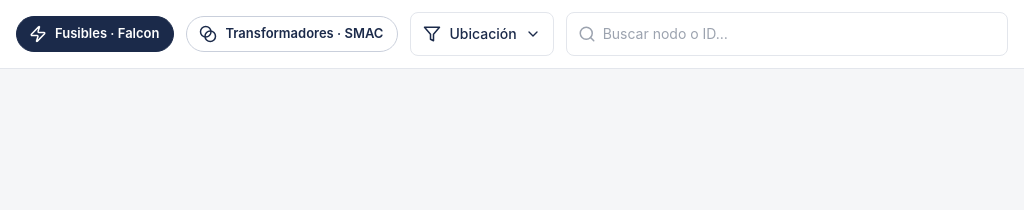
Test: MapToolbar › opens and closes the location filters from the compact filter control
The width and height of the screenshot is (1024, 210).
Click the button with aria-label "Mostrar filtros de ubicación".
click(482, 34)  # box [410,12,554,56]
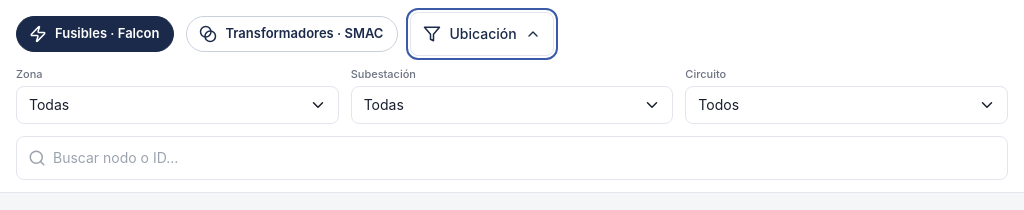
Now the button named "Mostrar filtros de ubicación" is expanded
Click the button with aria-label "Ocultar filtros de ubicación".
click(482, 34)  # box [410,12,554,56]
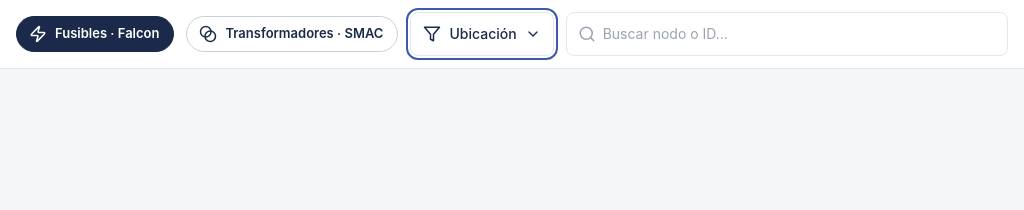
Now the button named "Ocultar filtros de ubicación" is collapsed, box [410,12,554,56]
